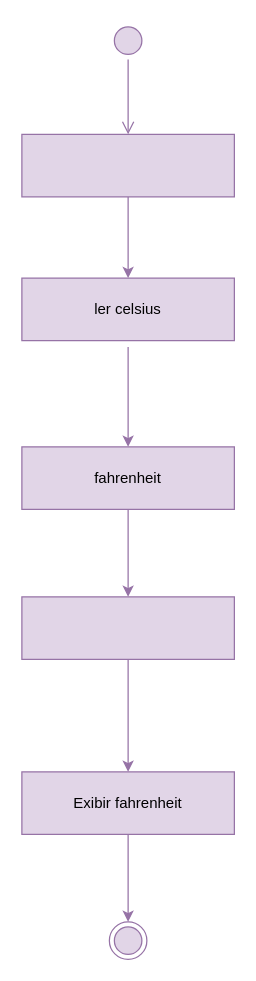
Image size: 256x981. Some labels were removed from this diagram. The centre of each missing label's shape, as x and y in pixels:
"Digite a temperatura em °C" belongs at (127,165).
"ler fahrenheit" belongs at (127,627).
